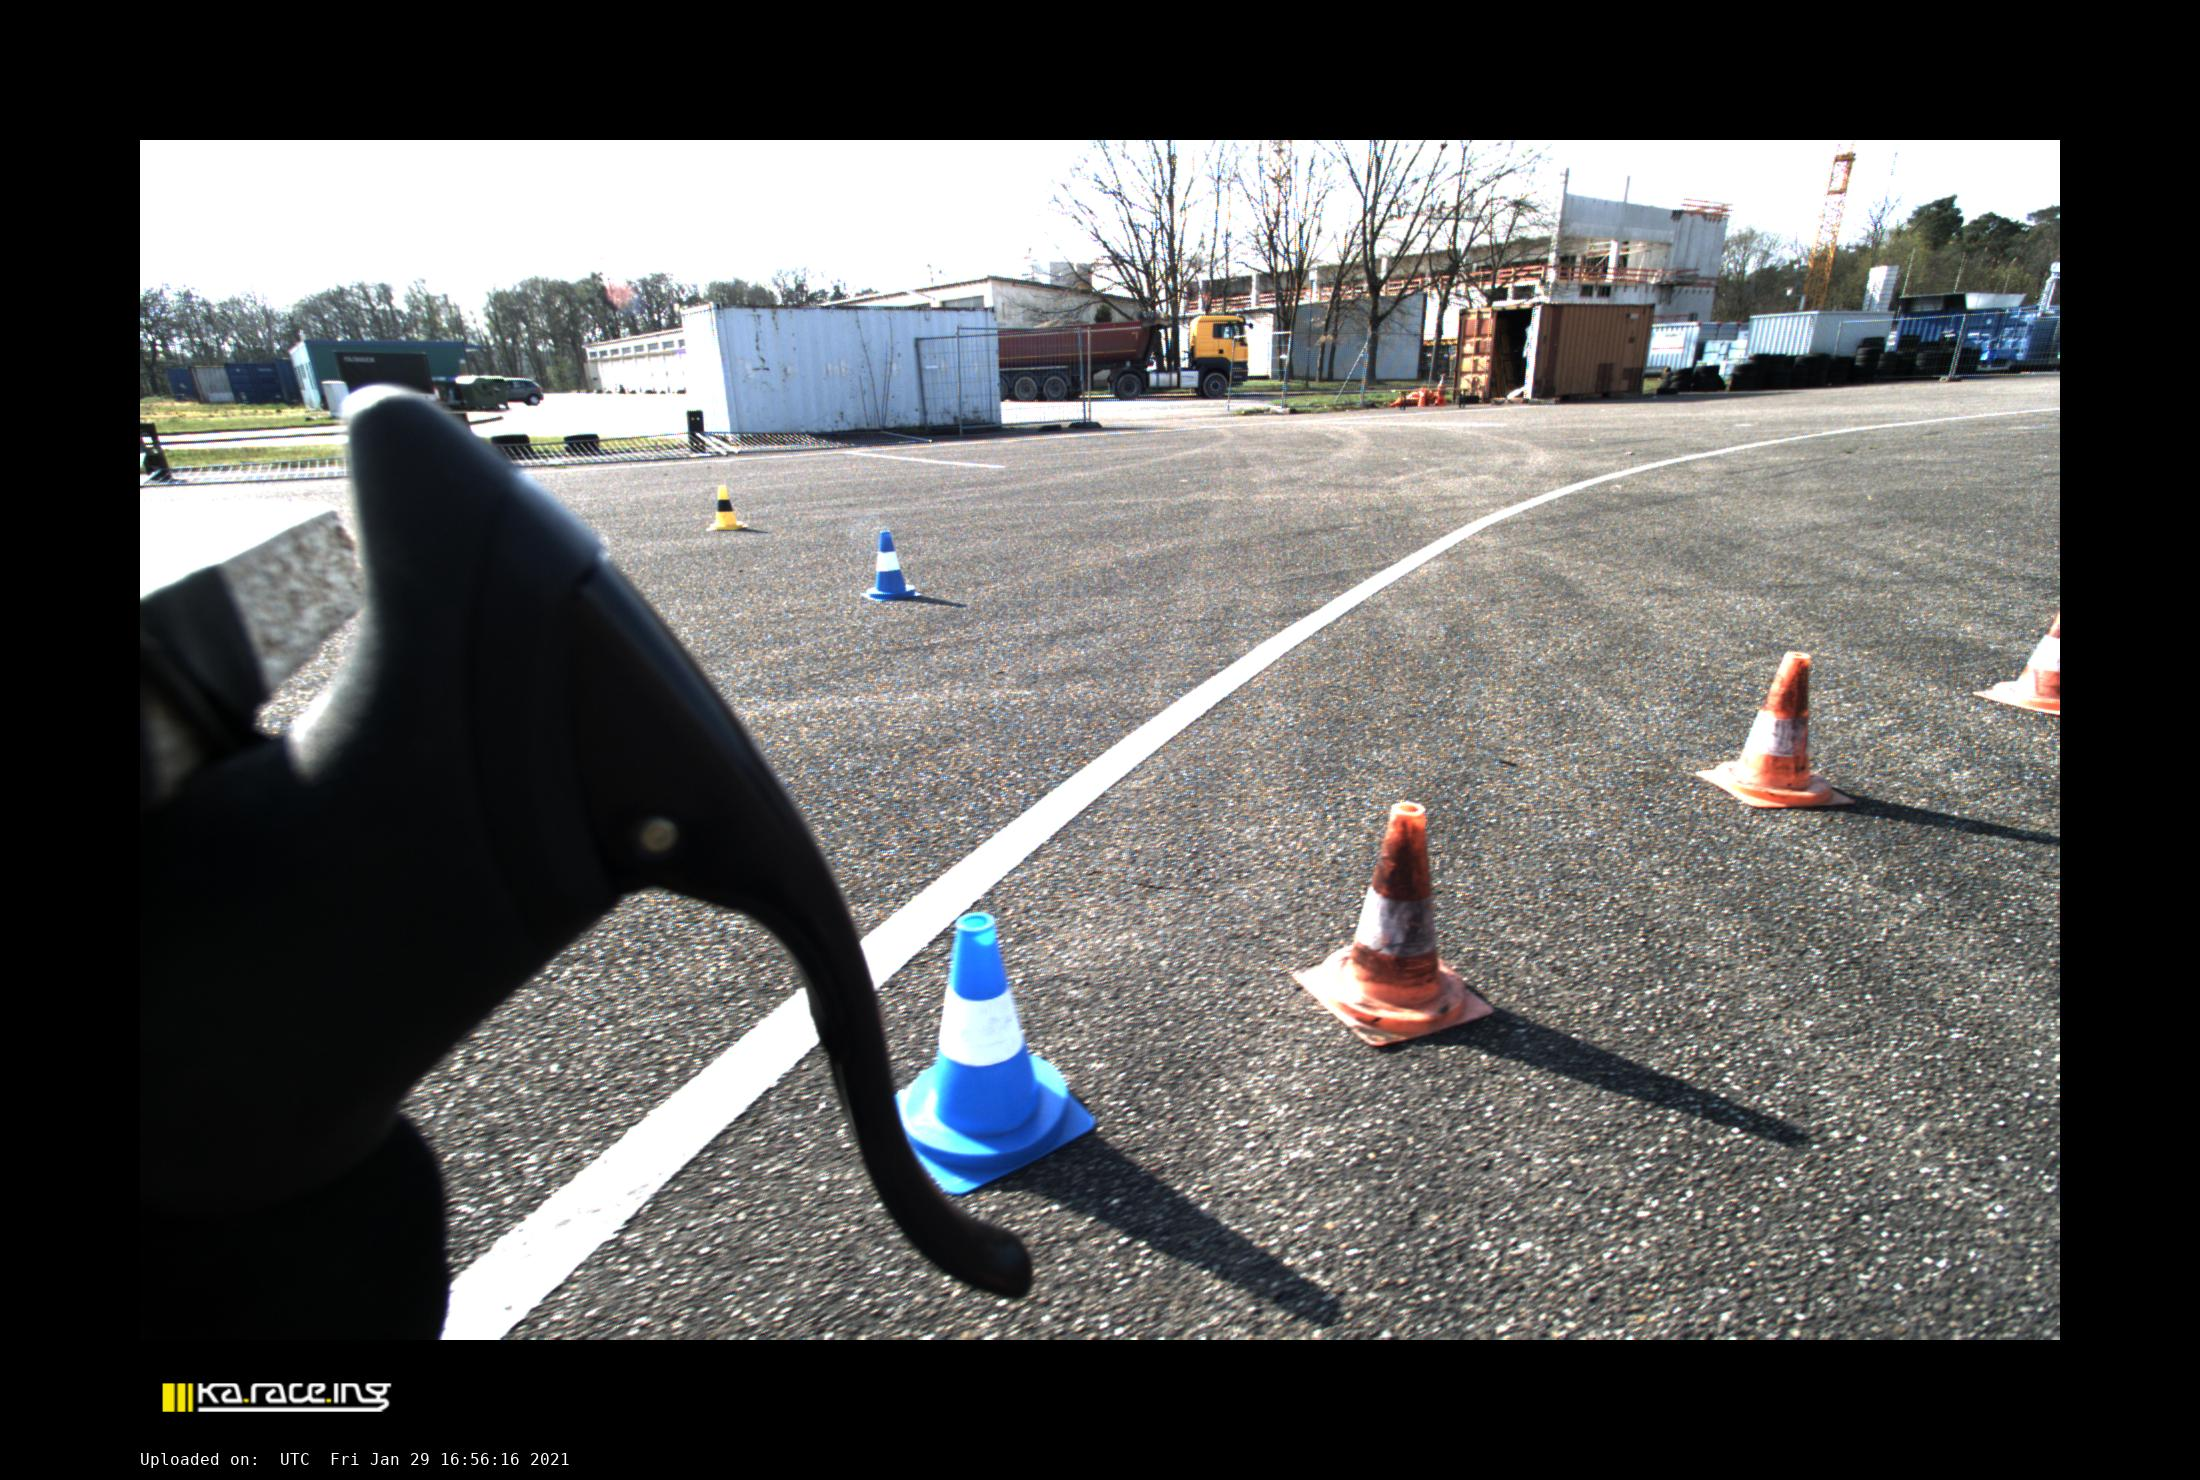blue_cone: (895, 912, 1095, 1194), (861, 530, 922, 601)
orange_cone: (1292, 801, 1495, 1046), (1695, 651, 1855, 808), (1974, 610, 2058, 717)
yellow_cone: (705, 486, 747, 530)
